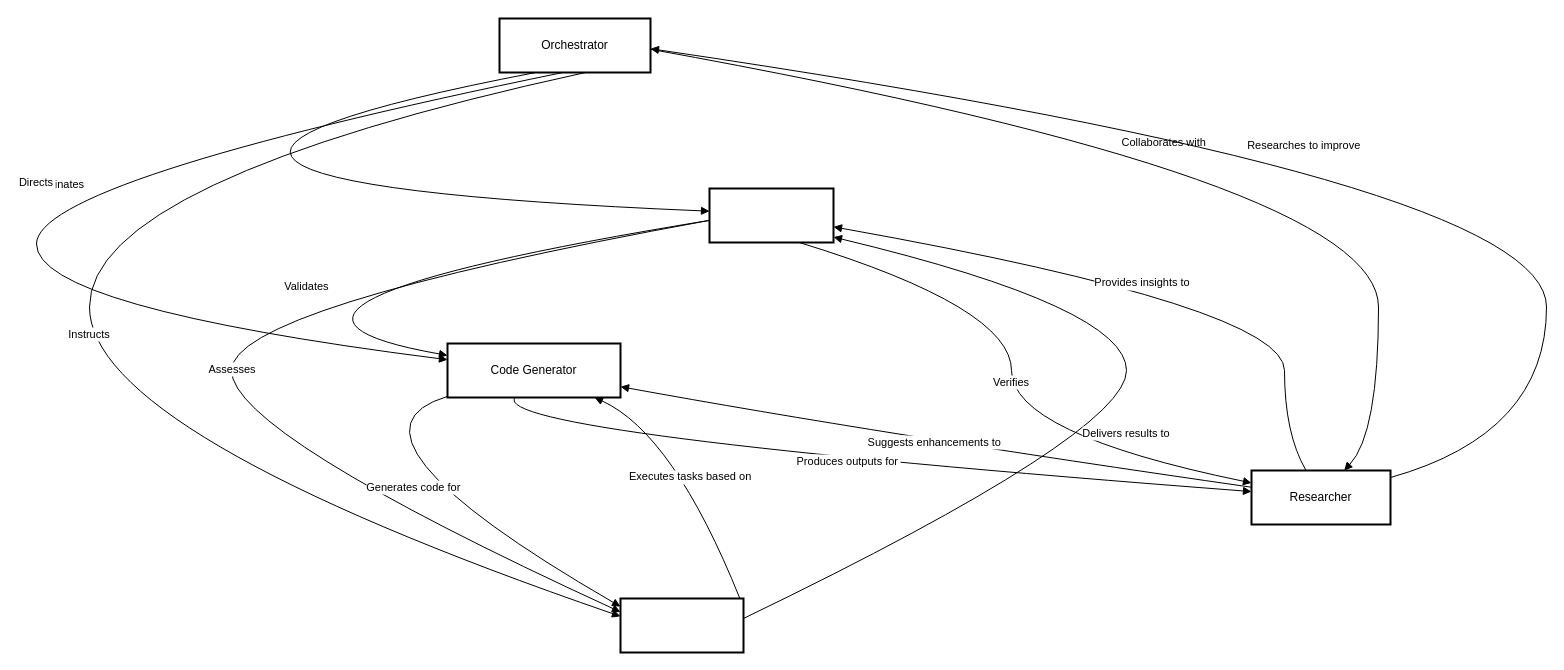
The diagram is 1564 pixels wide and 670 high, and some of its shapes have lost their labels. The centre of each missing label's shape, as x and y in pixels:
"Executor" belongs at (x=681, y=625).
"Validator" belongs at (x=771, y=215).
